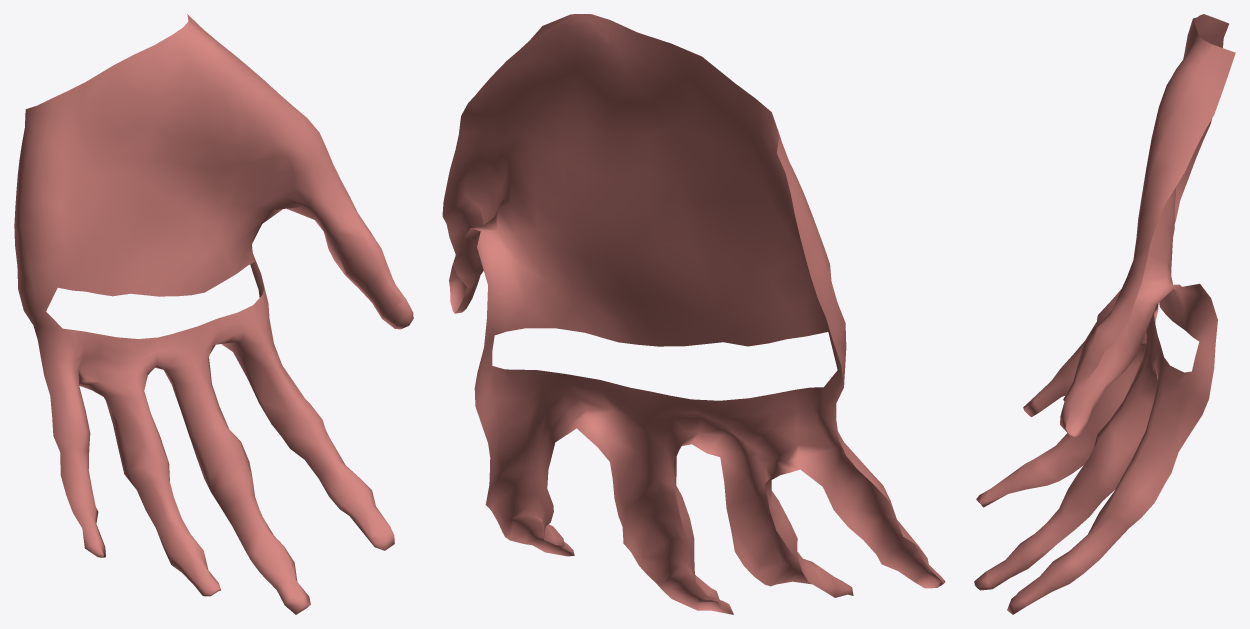
3 views of the same model, side by side, from view 1: azimuth 30°, elevation 25°; view 2: azimuth 150°, elevation 25°; view 3: azimuth 270°, elevation 25° (orthographic). The views are drawn at different scales.
Visible parts, largest first — view 1: ZA_58ede7f0af81b574; view 2: ZA_58ede7f0af81b574; view 3: ZA_58ede7f0af81b574.
Part boxes in pixels (bbox=[...]): ZA_58ede7f0af81b574: bbox=[14, 14, 413, 614]; ZA_58ede7f0af81b574: bbox=[442, 14, 945, 614]; ZA_58ede7f0af81b574: bbox=[974, 14, 1235, 614].
Bounding box in the file's own units: 0.1093 × 0.1561 × 0.0681.
